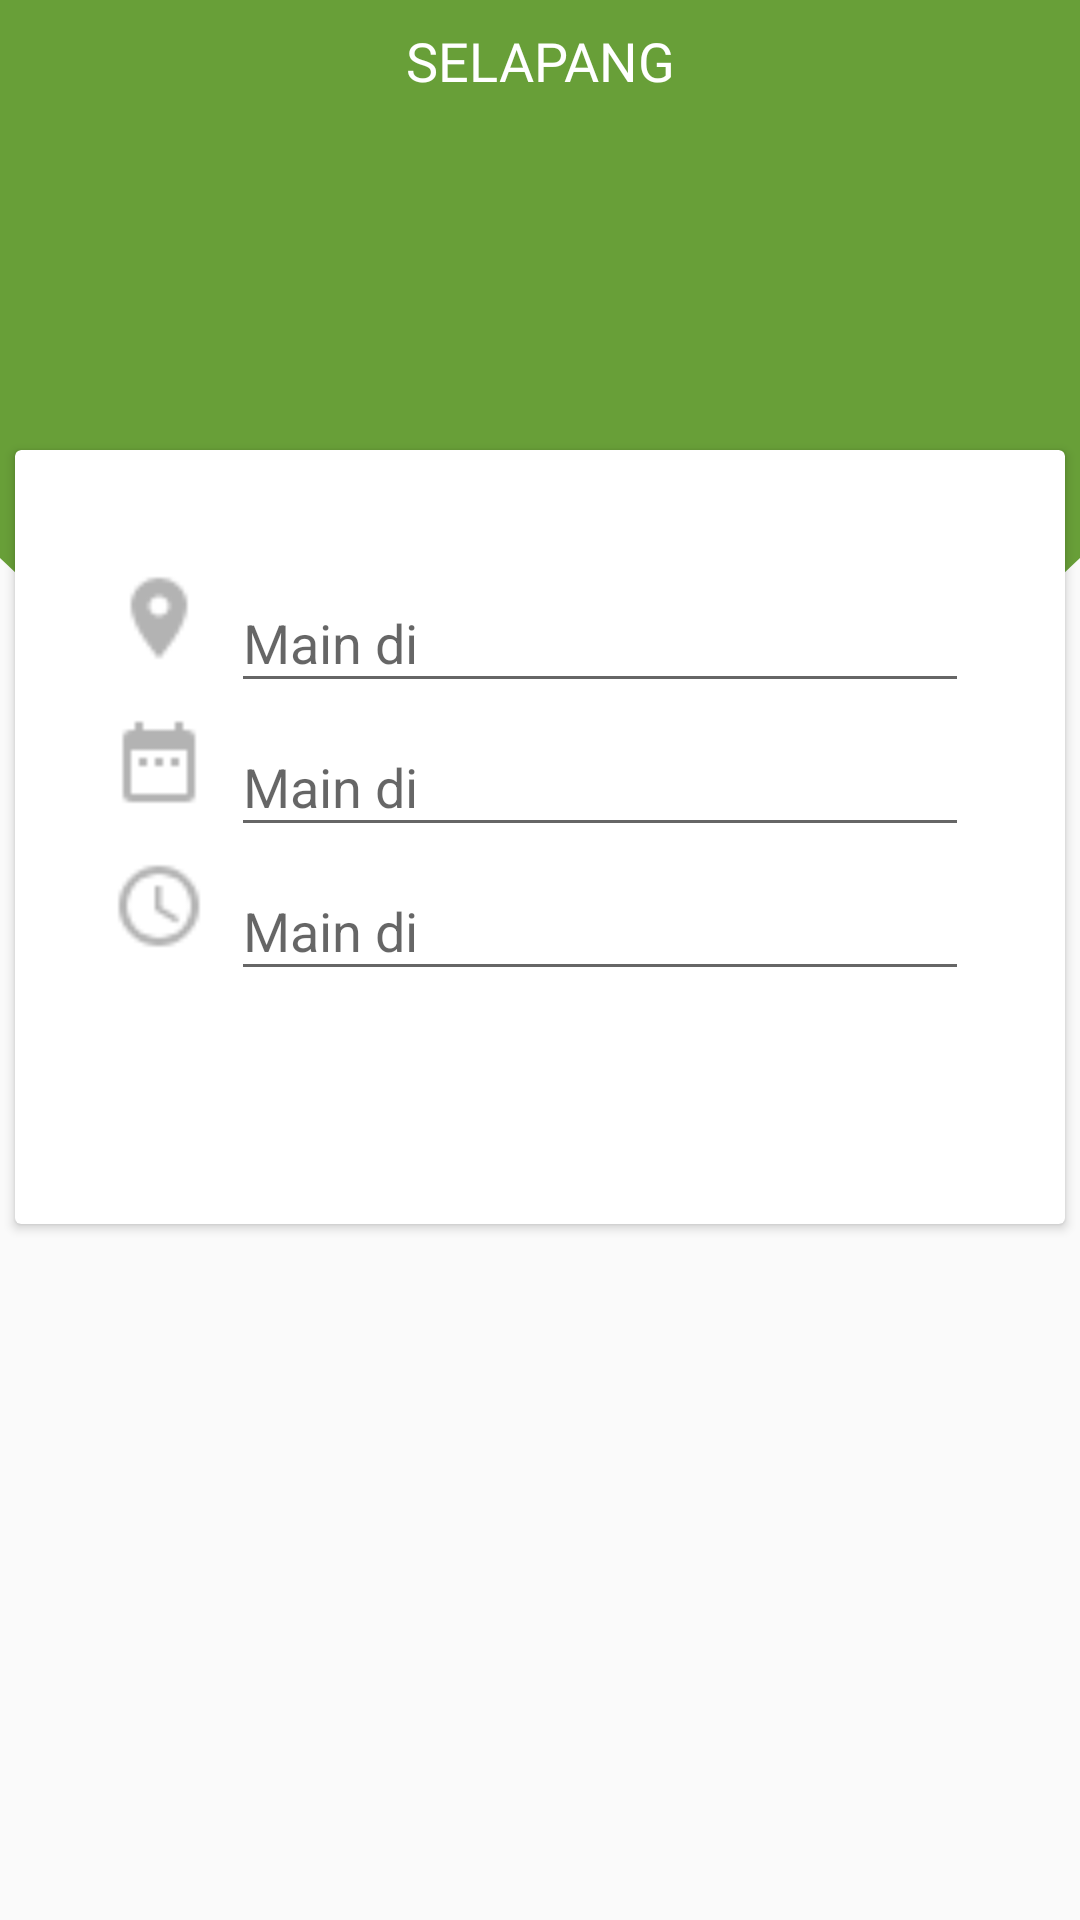

Named icons in this screenshot (1080px×1920px) and their bounding boxes, (x1, y1, x2, y2):
date: (122, 721, 196, 803)
place: (130, 577, 188, 657)
time: (118, 865, 200, 947)
